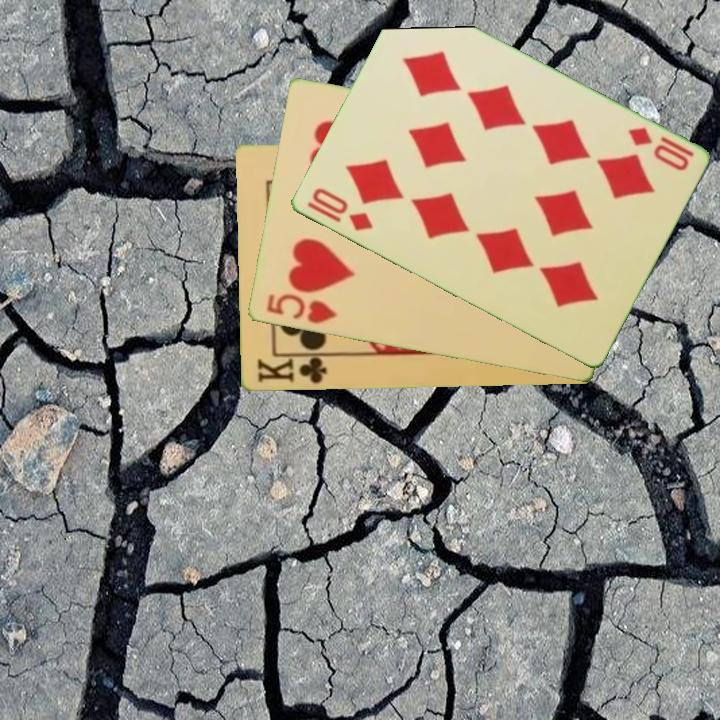10d: (623, 123, 696, 174), (303, 184, 375, 235)
5h: (262, 290, 340, 327)
Kc: (254, 352, 333, 387)
